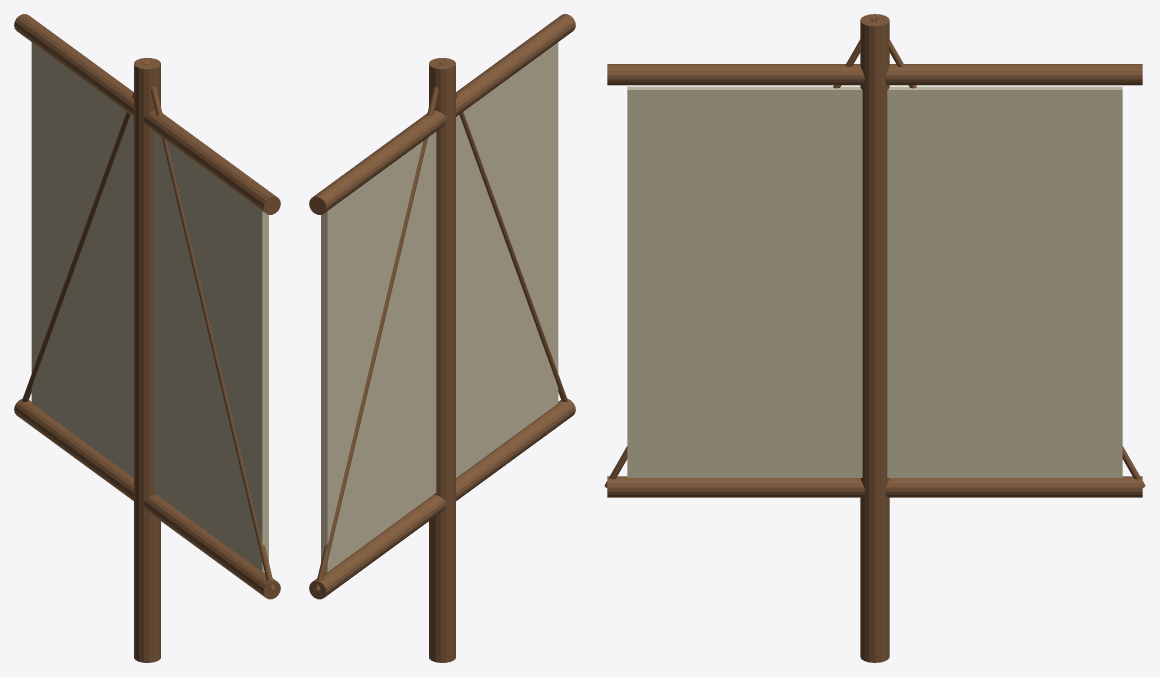
File: SM_Module_SpareRigging.glb
3 views of the same model, side by side, from view 1: azimuth 30°, elevation 25°; view 2: azimuth 150°, elevation 25°; view 3: azimuth 270°, elevation 25° (orthographic). The views are drawn at different scales.
Parts seen in each view (by area): view 1: SM_Module_SpareRigging; view 2: SM_Module_SpareRigging; view 3: SM_Module_SpareRigging.
Boxes of the visible parts, x1,y1,x2,y2 form: SM_Module_SpareRigging: (14,14,280,662); SM_Module_SpareRigging: (309,14,575,662); SM_Module_SpareRigging: (604,14,1145,662).
Size of the model in its own units: 0.044 by 1.05 by 0.8089.
